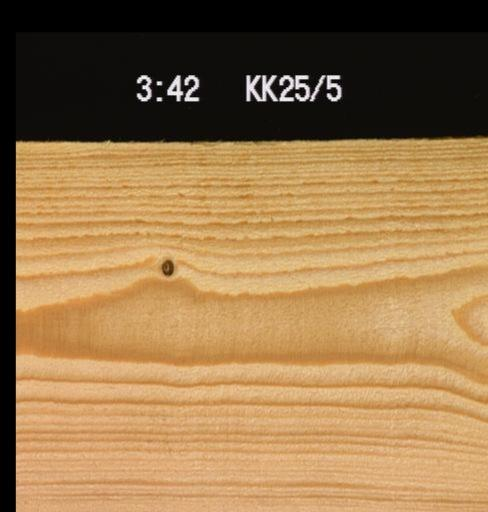dry_knot: (157, 255, 174, 276)
